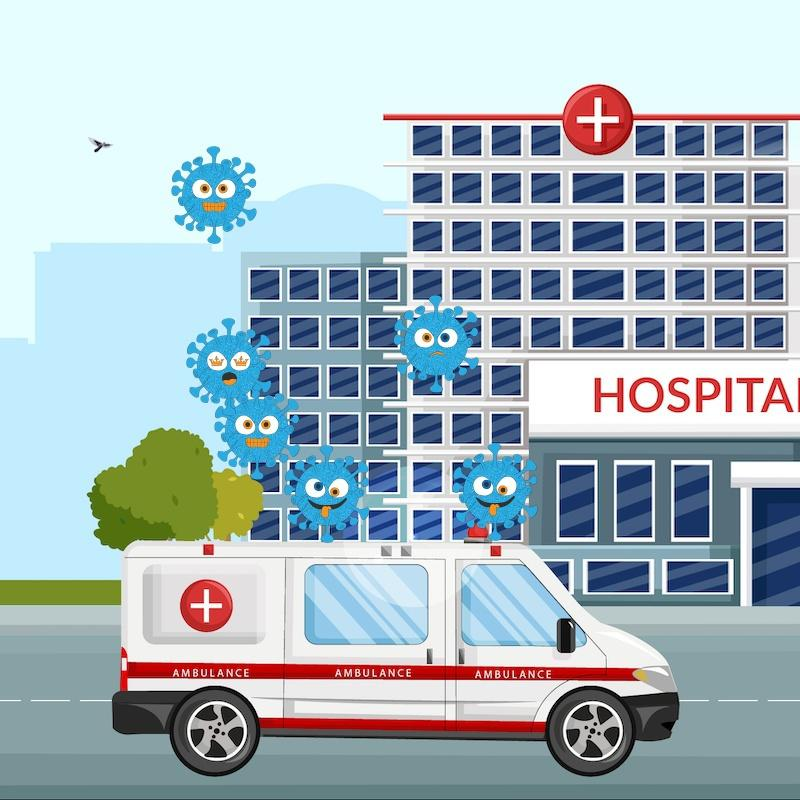corona1: (164, 148, 265, 246), (221, 391, 298, 480)
corona2: (397, 303, 479, 390)
corona3: (462, 441, 540, 536), (291, 448, 366, 536)
corona4: (186, 316, 268, 409)
